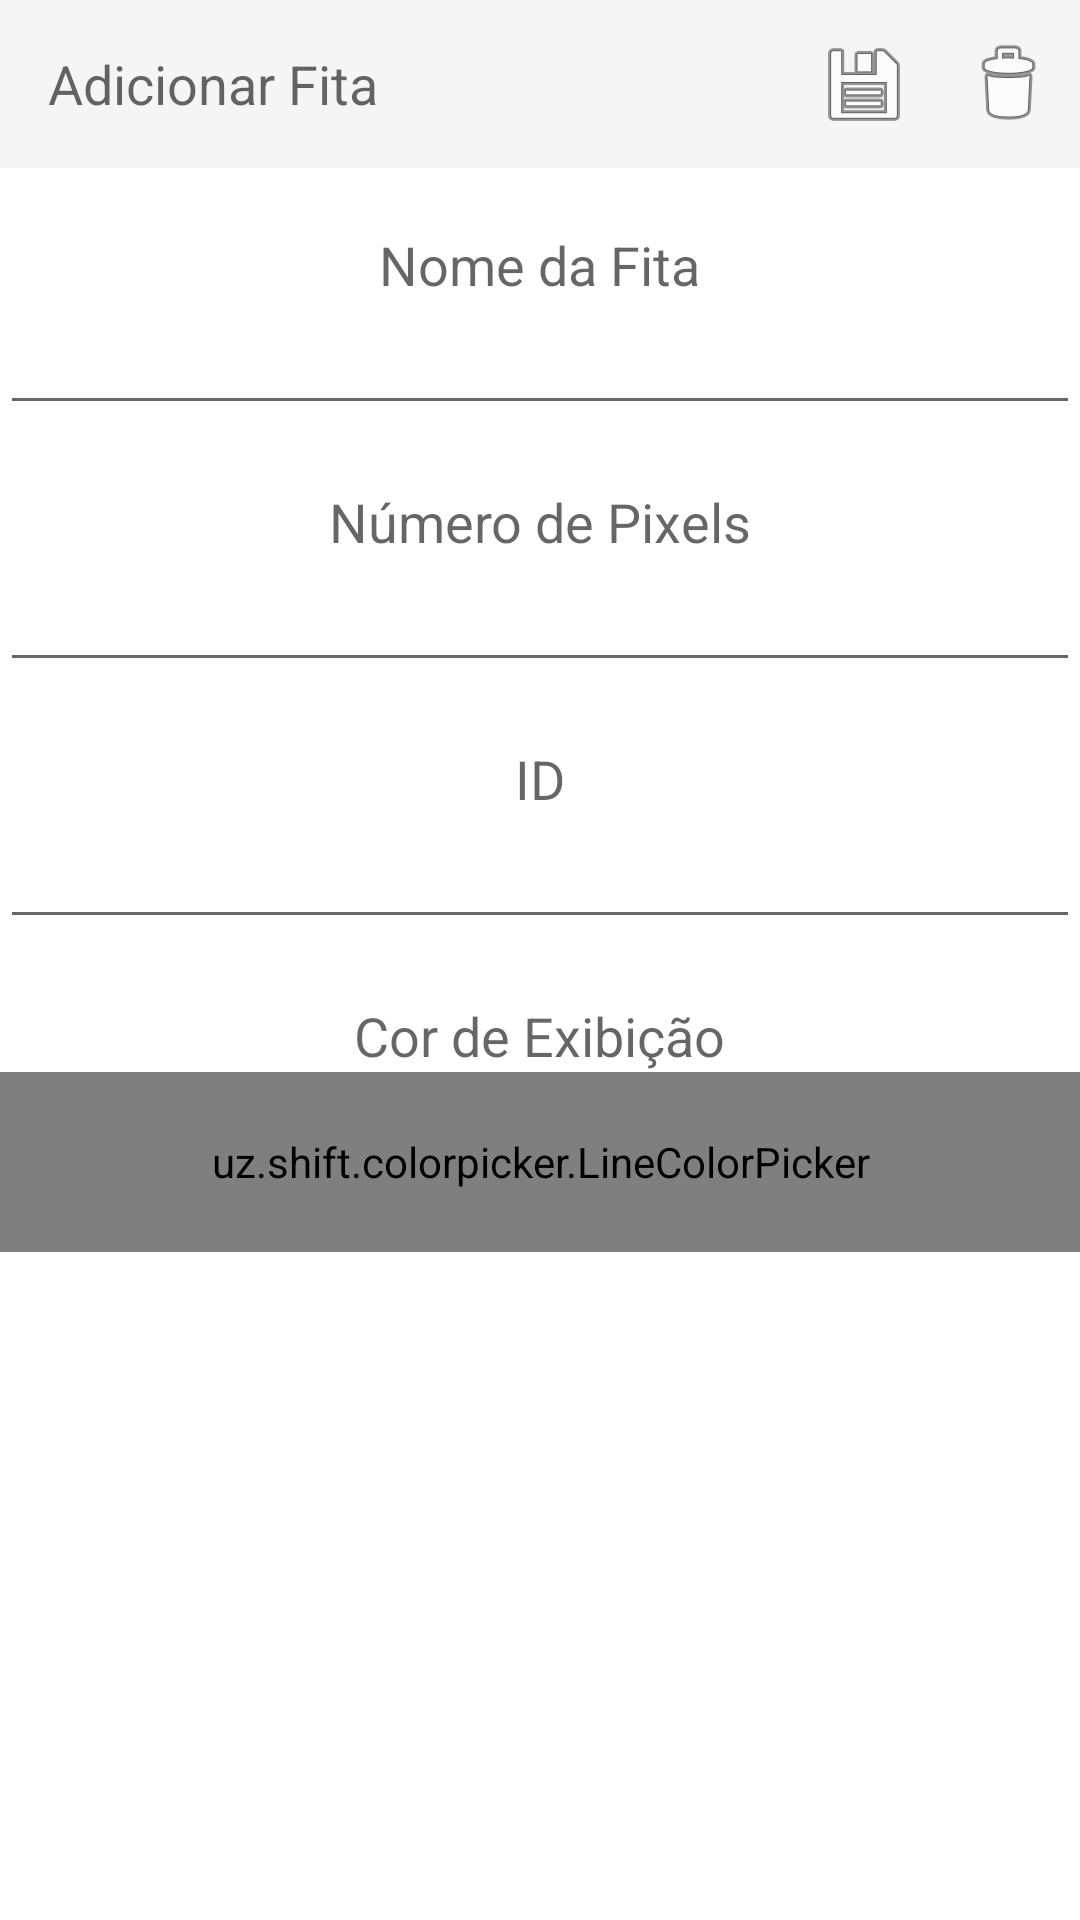

Icon bounding boxes for this 1080*1920 phone screenshot, format bbox=(x1, y1, x2, y2):
delete: bbox=(981, 45, 1036, 120)
save: bbox=(828, 48, 900, 121)
